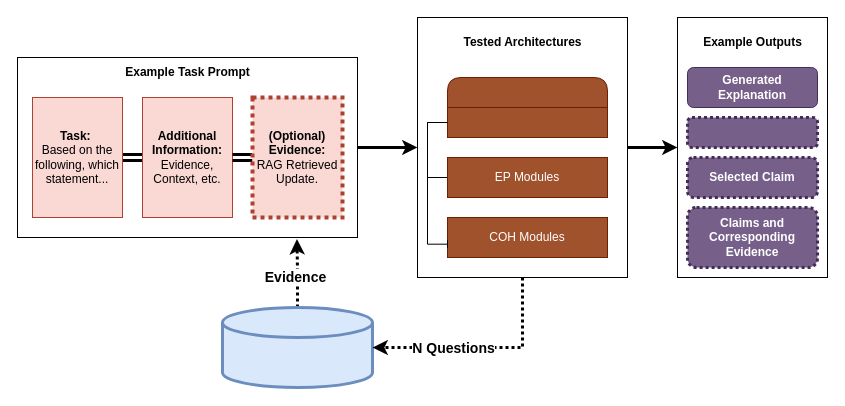
The diagram is 845 pixels wide and 406 high, and some of its shapes have lost their labels. The shapes that lost their labels are listed below. From the top down, each one's box as (x1, y1, x2, y2) in pixels, then its label:
(446, 76, 608, 138): Self-Discover Agent
(446, 106, 608, 138): Base Modules
(686, 116, 818, 148): Evidence IDs
(220, 306, 374, 388): Self-RAG Agent
